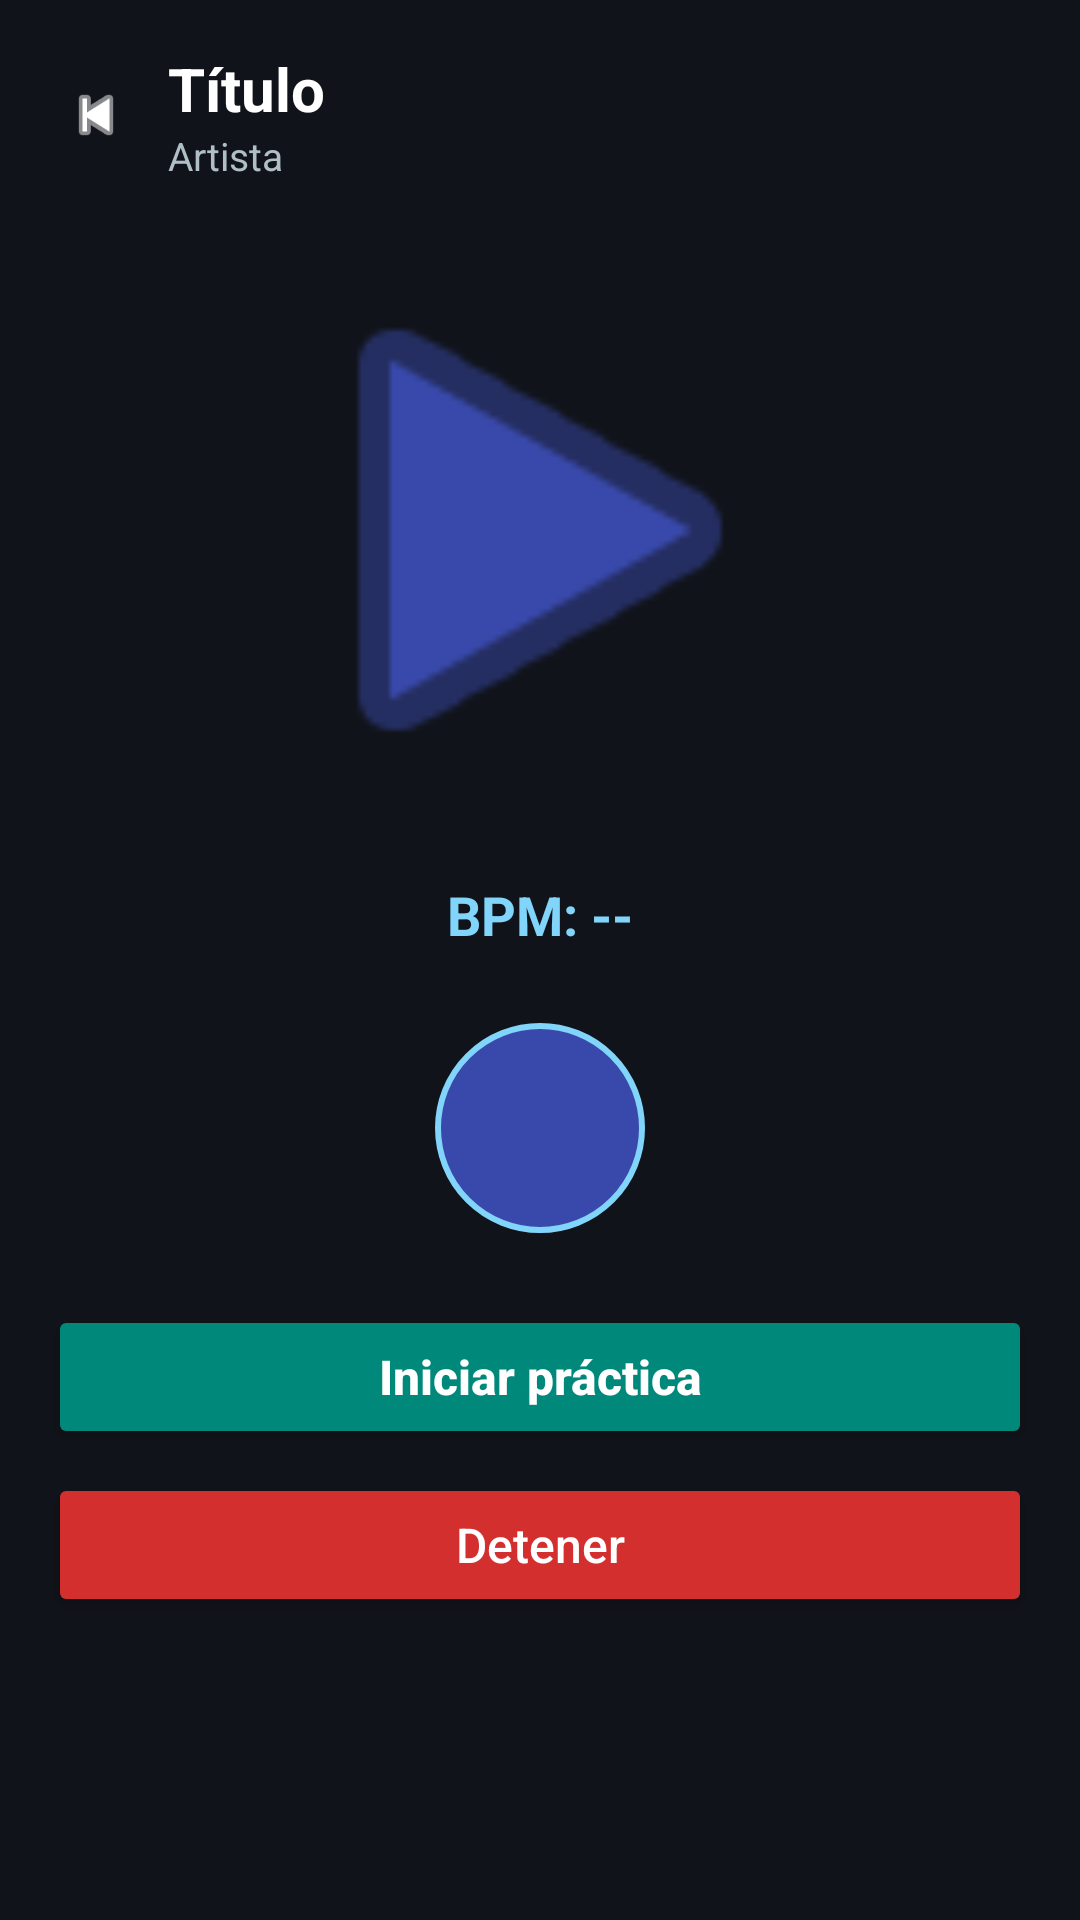

Screen size 1080px×1920px. Icon name, then its center in pixels as [x,y]:
previous: [96,115]
